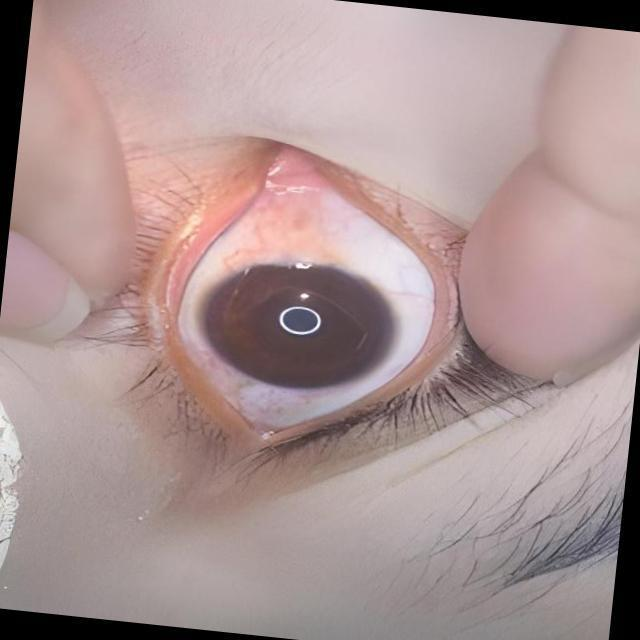Pterygium: (224, 156, 364, 293)
